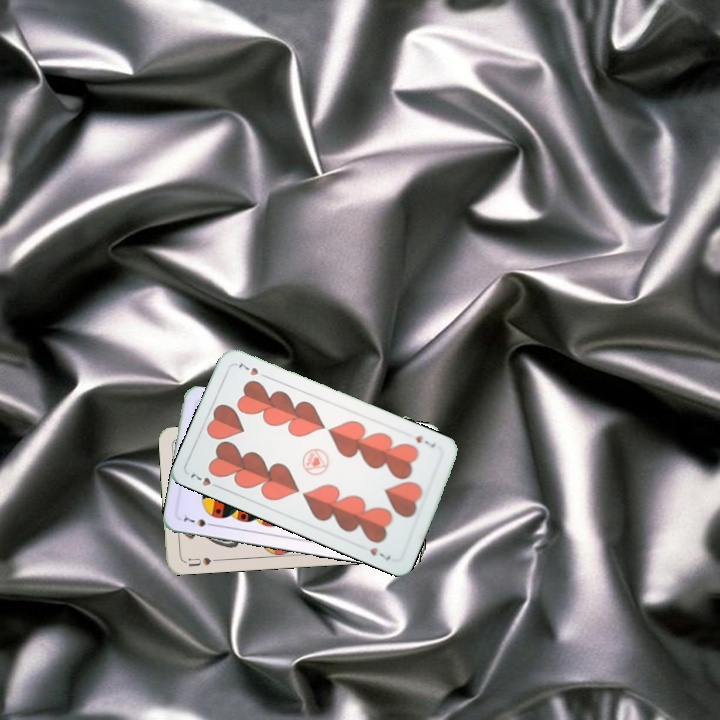H7: (186, 468, 224, 491), (412, 431, 438, 451)
S7: (178, 511, 218, 529)
SU: (184, 553, 221, 569)
